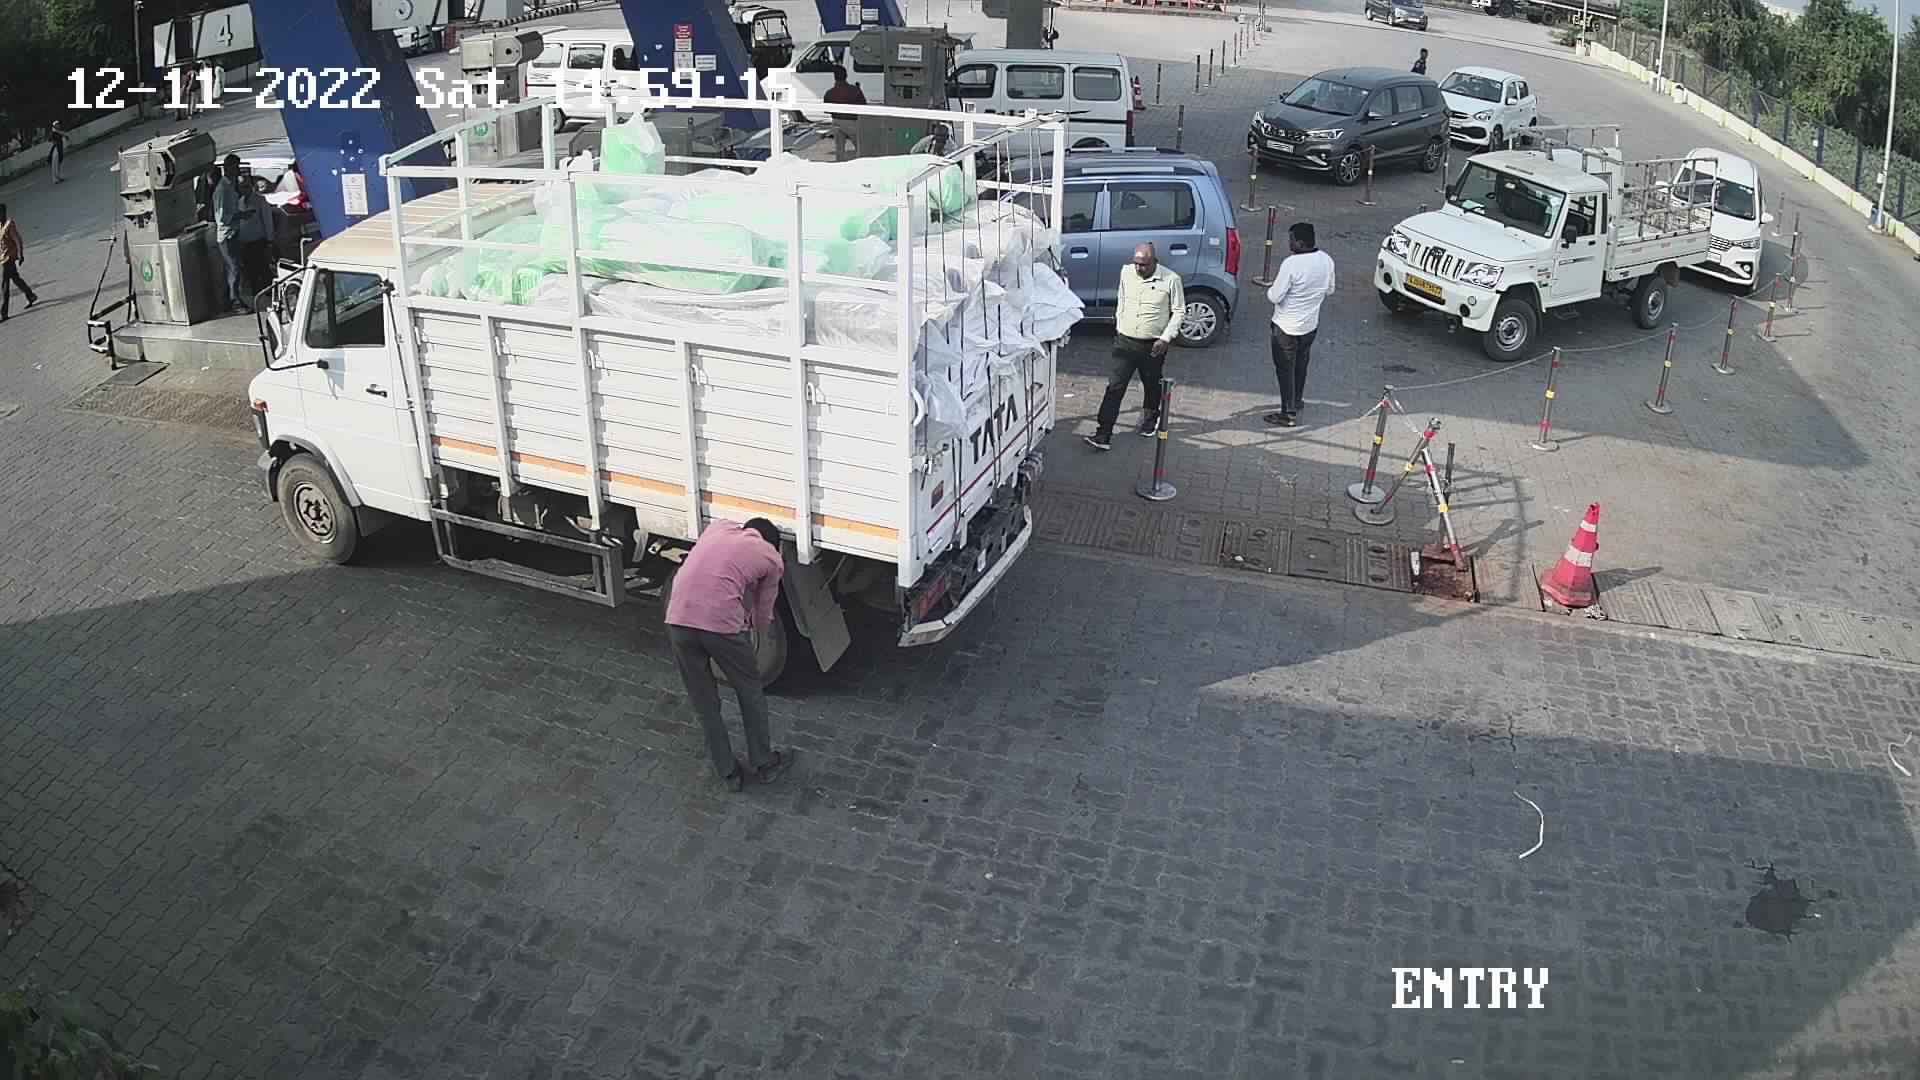Auto: (713, 0, 799, 76)
Car: (1366, 113, 1725, 367), (997, 131, 1257, 351), (909, 26, 1145, 191), (1238, 49, 1456, 190), (1636, 131, 1779, 310), (194, 120, 334, 284), (746, 22, 891, 142), (1412, 45, 1555, 164), (520, 13, 655, 135), (1356, 1, 1445, 46)
HMV: (233, 71, 1081, 720)
